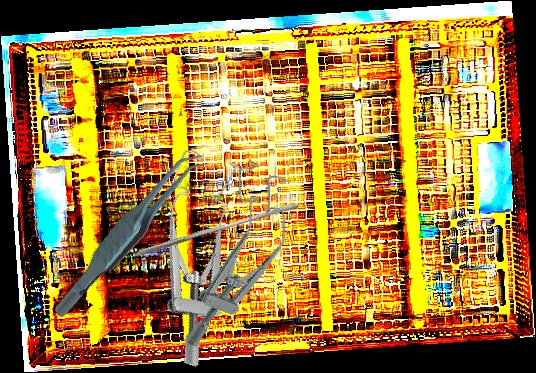Pusher: (135, 196, 299, 263)
Speculum: (113, 145, 271, 369), (170, 155, 309, 364)
Tissue Forceps: (26, 148, 231, 319)
